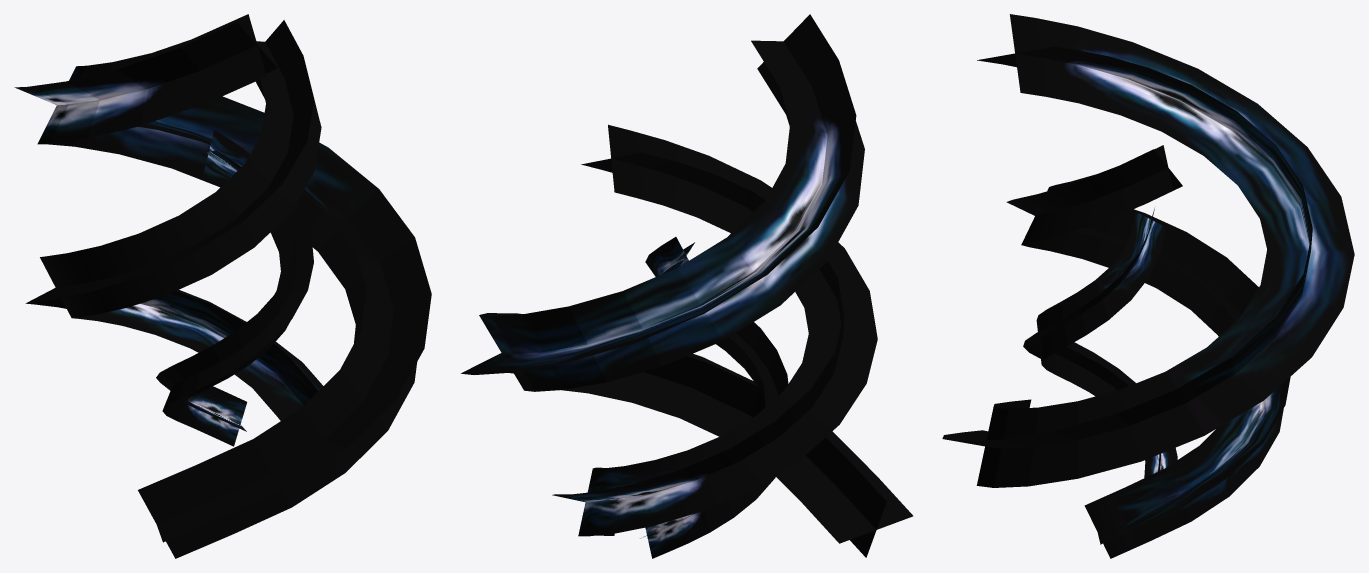
File: fuhuo_0714_hh.FBX
The picture shows the model from 3 angles, left to right: view 1: azimuth 30°, elevation 25°; view 2: azimuth 150°, elevation 25°; view 3: azimuth 270°, elevation 25°; orthographic projection. The views are drawn at different scales.
Parts seen in each view (by area): view 1: fuhuo_0714_hh; view 2: fuhuo_0714_hh; view 3: fuhuo_0714_hh.
Part boxes in pixels (bbox=[...]): fuhuo_0714_hh: bbox=[14, 14, 431, 558]; fuhuo_0714_hh: bbox=[461, 14, 913, 558]; fuhuo_0714_hh: bbox=[942, 14, 1354, 558].
Size of the model in its own units: 59.7 by 84.01 by 63.99.
